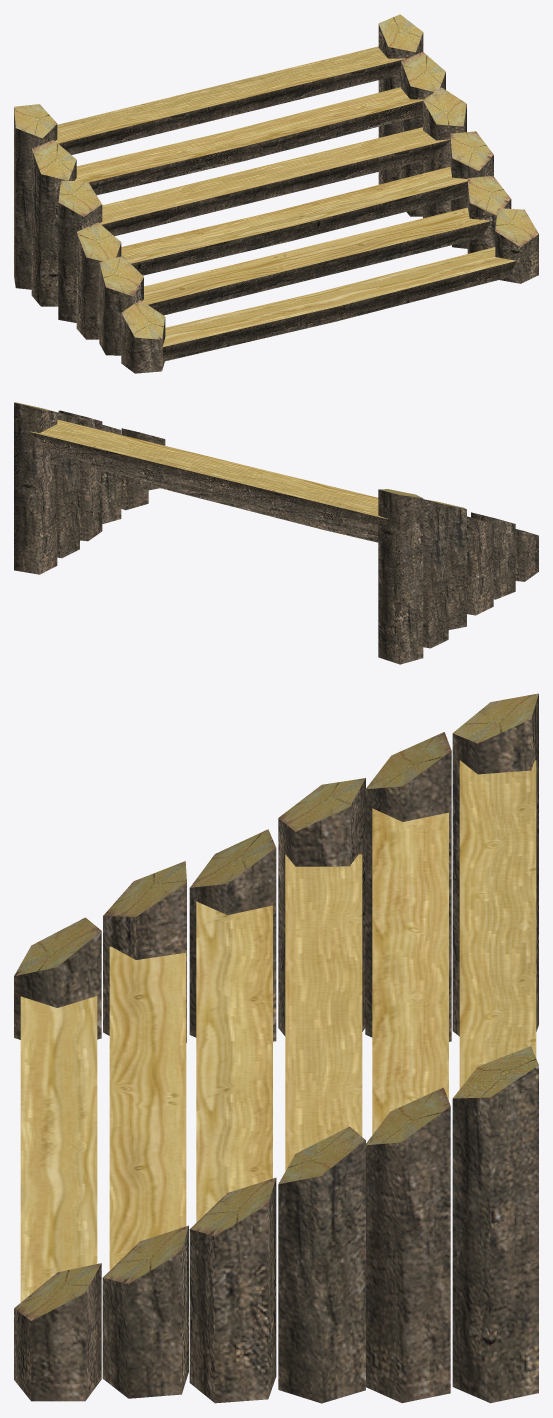
Rendered from construction_wood_foundation_stairs_mesh.fbx.
3 renders of one model, top to bottom at view 1: azimuth 30°, elevation 25°; view 2: azimuth 150°, elevation 25°; view 3: azimuth 270°, elevation 25°, orthographic. The views are drawn at different scales.
Visible parts, largest first — view 1: construction_wood_foundation_stairs_mesh; view 2: construction_wood_foundation_stairs_mesh; view 3: construction_wood_foundation_stairs_mesh.
Part boxes in pixels (x1=…): construction_wood_foundation_stairs_mesh: x1=14, y1=14, x2=538, y2=373; construction_wood_foundation_stairs_mesh: x1=14, y1=402, x2=538, y2=664; construction_wood_foundation_stairs_mesh: x1=14, y1=693, x2=538, y2=1403.
Size of the model in its own units: 300 by 119 by 170.
